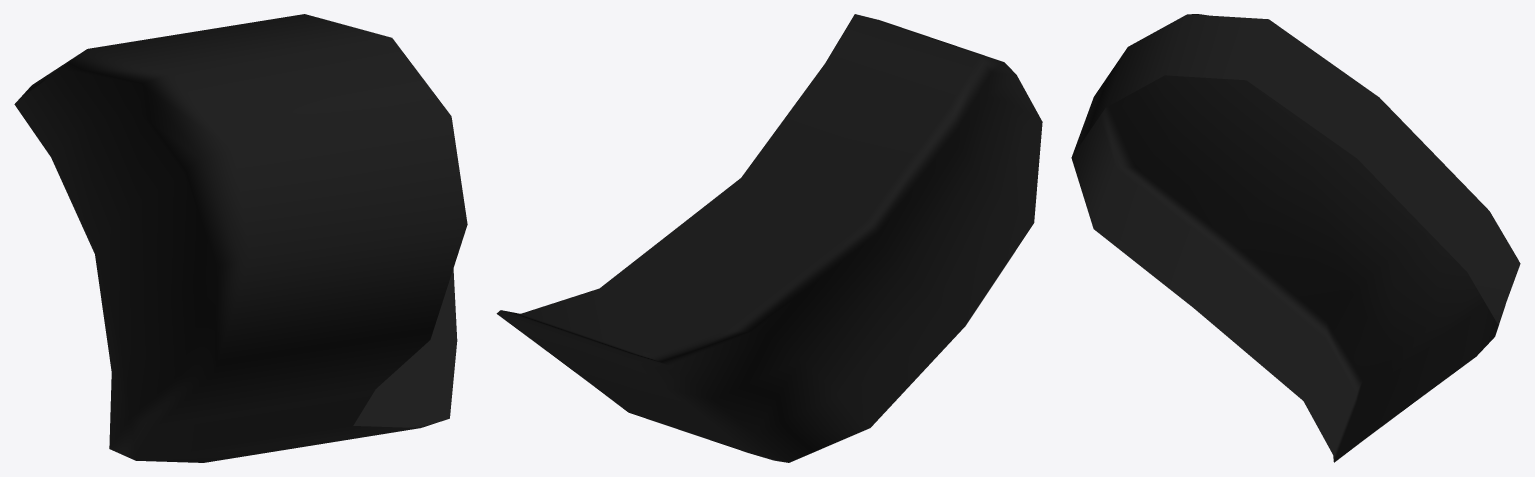
The model's file is crystal_controller_right_button3.obj.
The picture shows the model from 3 angles, left to right: view 1: azimuth 30°, elevation 25°; view 2: azimuth 150°, elevation 25°; view 3: azimuth 270°, elevation 25°; orthographic projection. The views are drawn at different scales.
Parts seen in each view (by area): view 1: crystal_controller_right_button3; view 2: crystal_controller_right_button3; view 3: crystal_controller_right_button3.
Boxes of the visible parts, x1=… form: crystal_controller_right_button3: x1=14, y1=14, x2=467, y2=462; crystal_controller_right_button3: x1=496, y1=14, x2=1042, y2=462; crystal_controller_right_button3: x1=1071, y1=14, x2=1520, y2=462.
Bounding box in the file's own units: 0.0218 × 0.0214 × 0.0264.
Materials: 1 (1 with a texture image).
